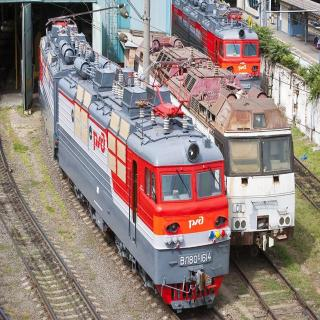poezd: (137, 126, 228, 300), (216, 96, 299, 252), (217, 23, 265, 94)
